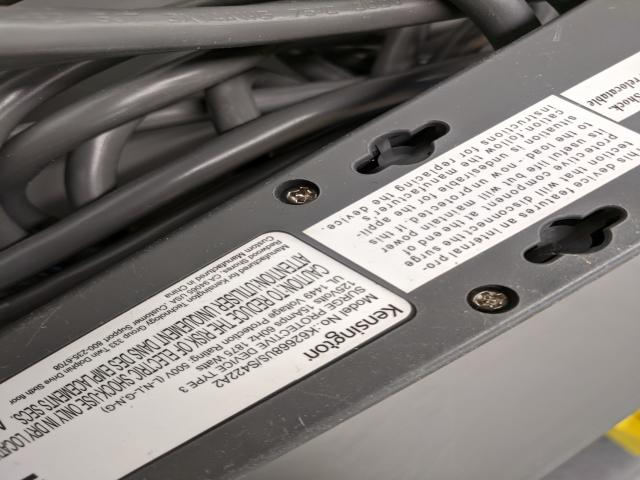CRS: (472, 288, 518, 314), (280, 183, 325, 206)
